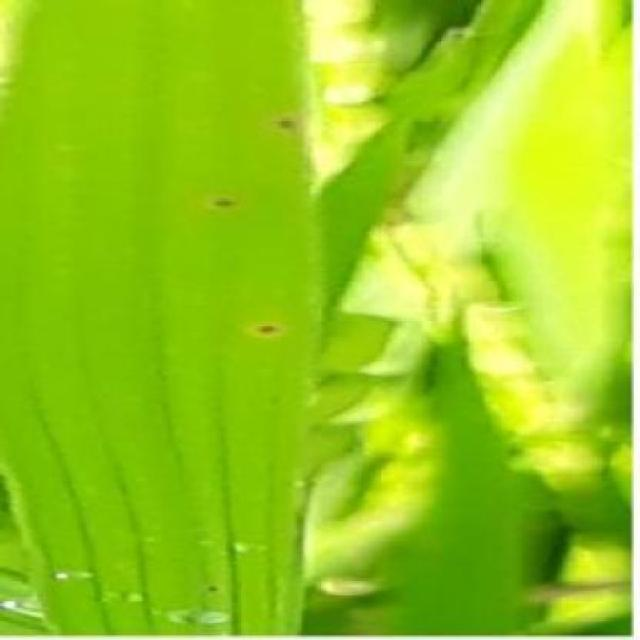Leaf_Blast: (238, 307, 296, 350), (90, 580, 152, 606), (260, 103, 305, 137), (201, 184, 245, 218), (46, 558, 94, 584), (200, 576, 226, 596)
